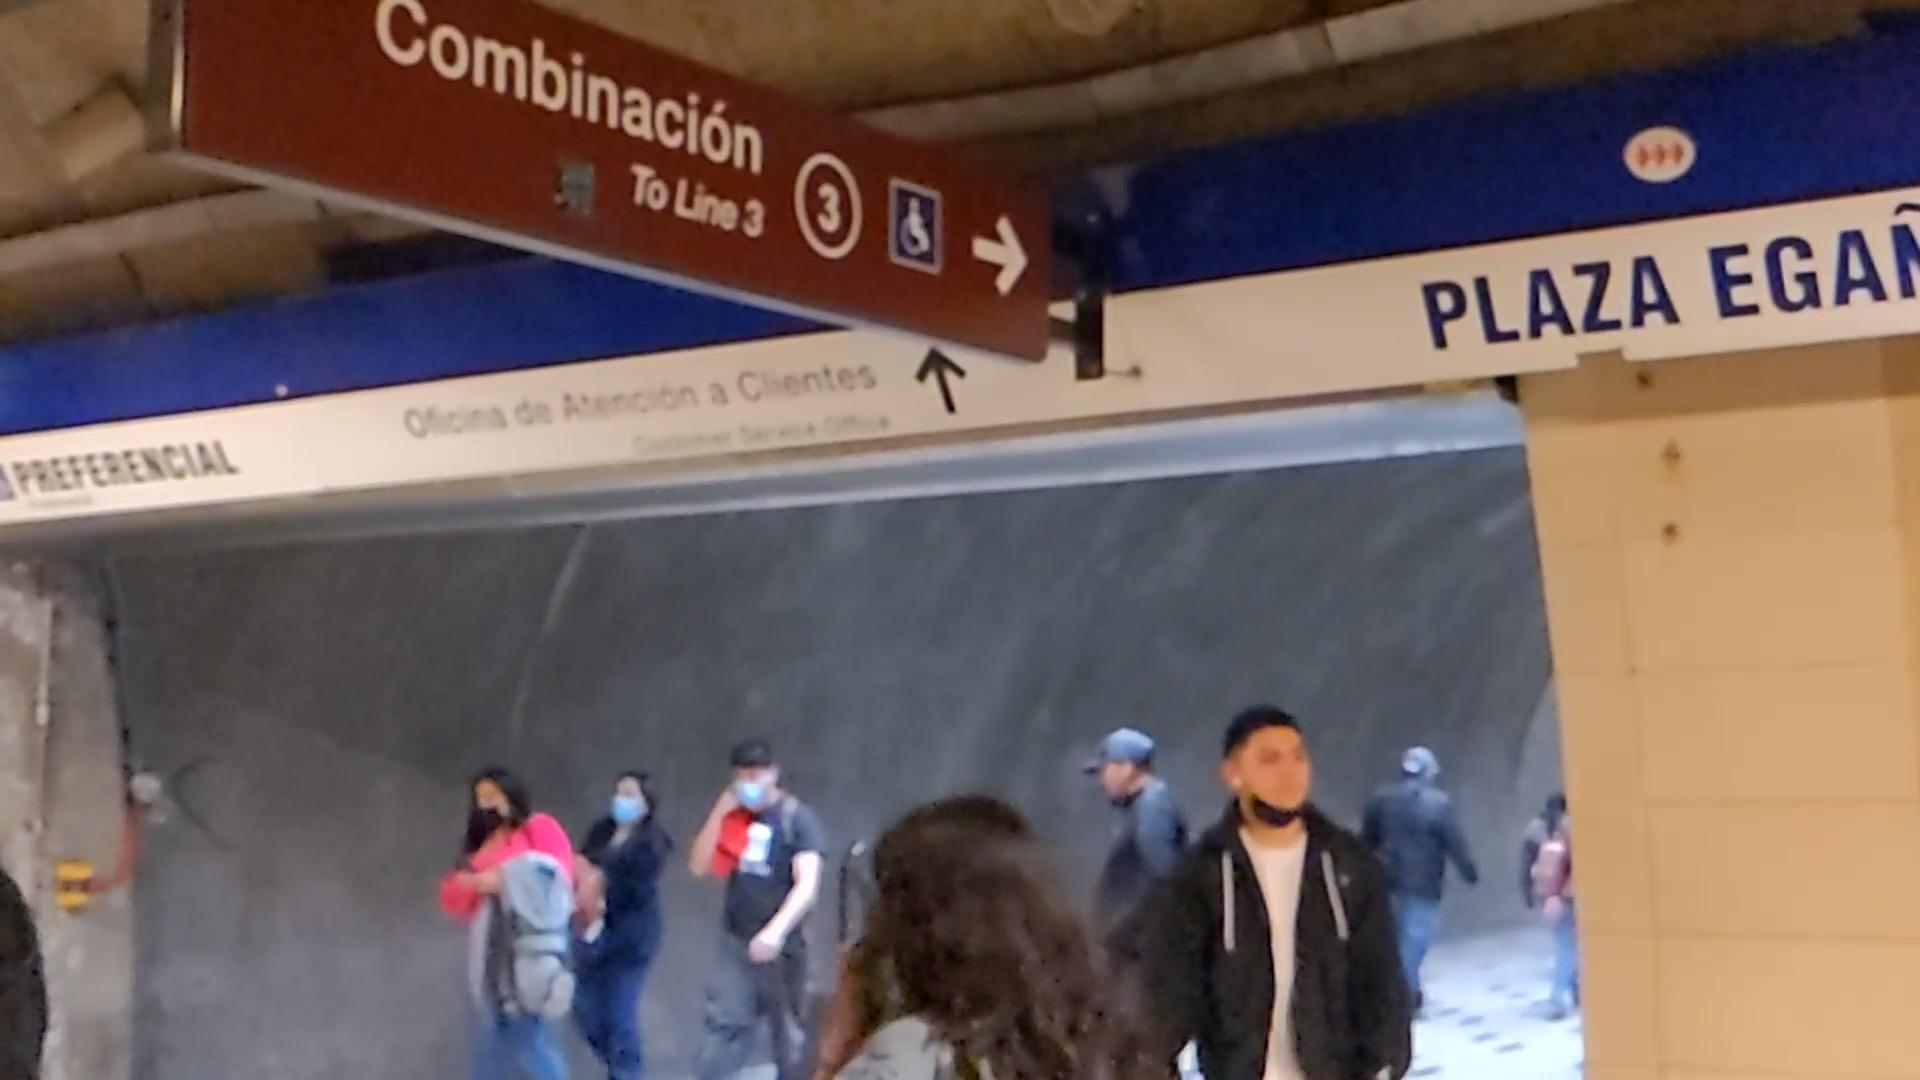handicapped symbol: (895, 194, 932, 258)
right arrow: (968, 214, 1035, 303)
up arrow: (909, 342, 976, 419)
